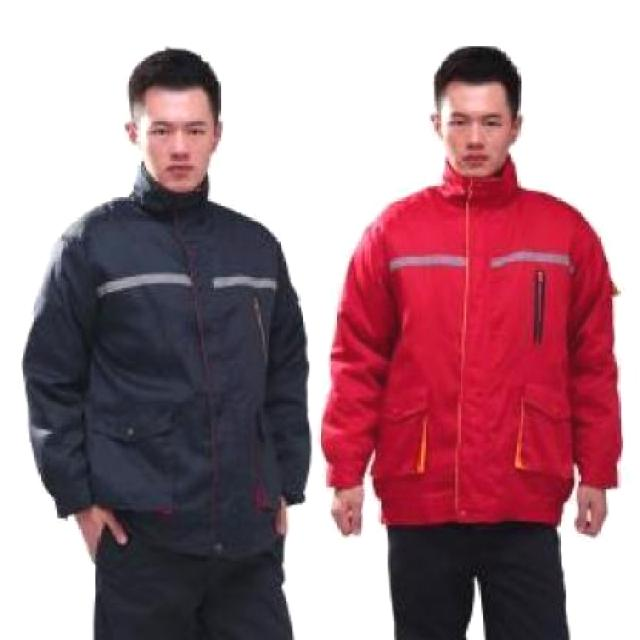face_nomask: (142, 95, 216, 197), (438, 86, 508, 176)
hand_noglove: (68, 500, 123, 563), (570, 481, 608, 537), (326, 484, 365, 538)
head_nohelmet: (414, 44, 521, 104), (122, 51, 236, 106)
person: (323, 40, 620, 640), (28, 38, 320, 640)
